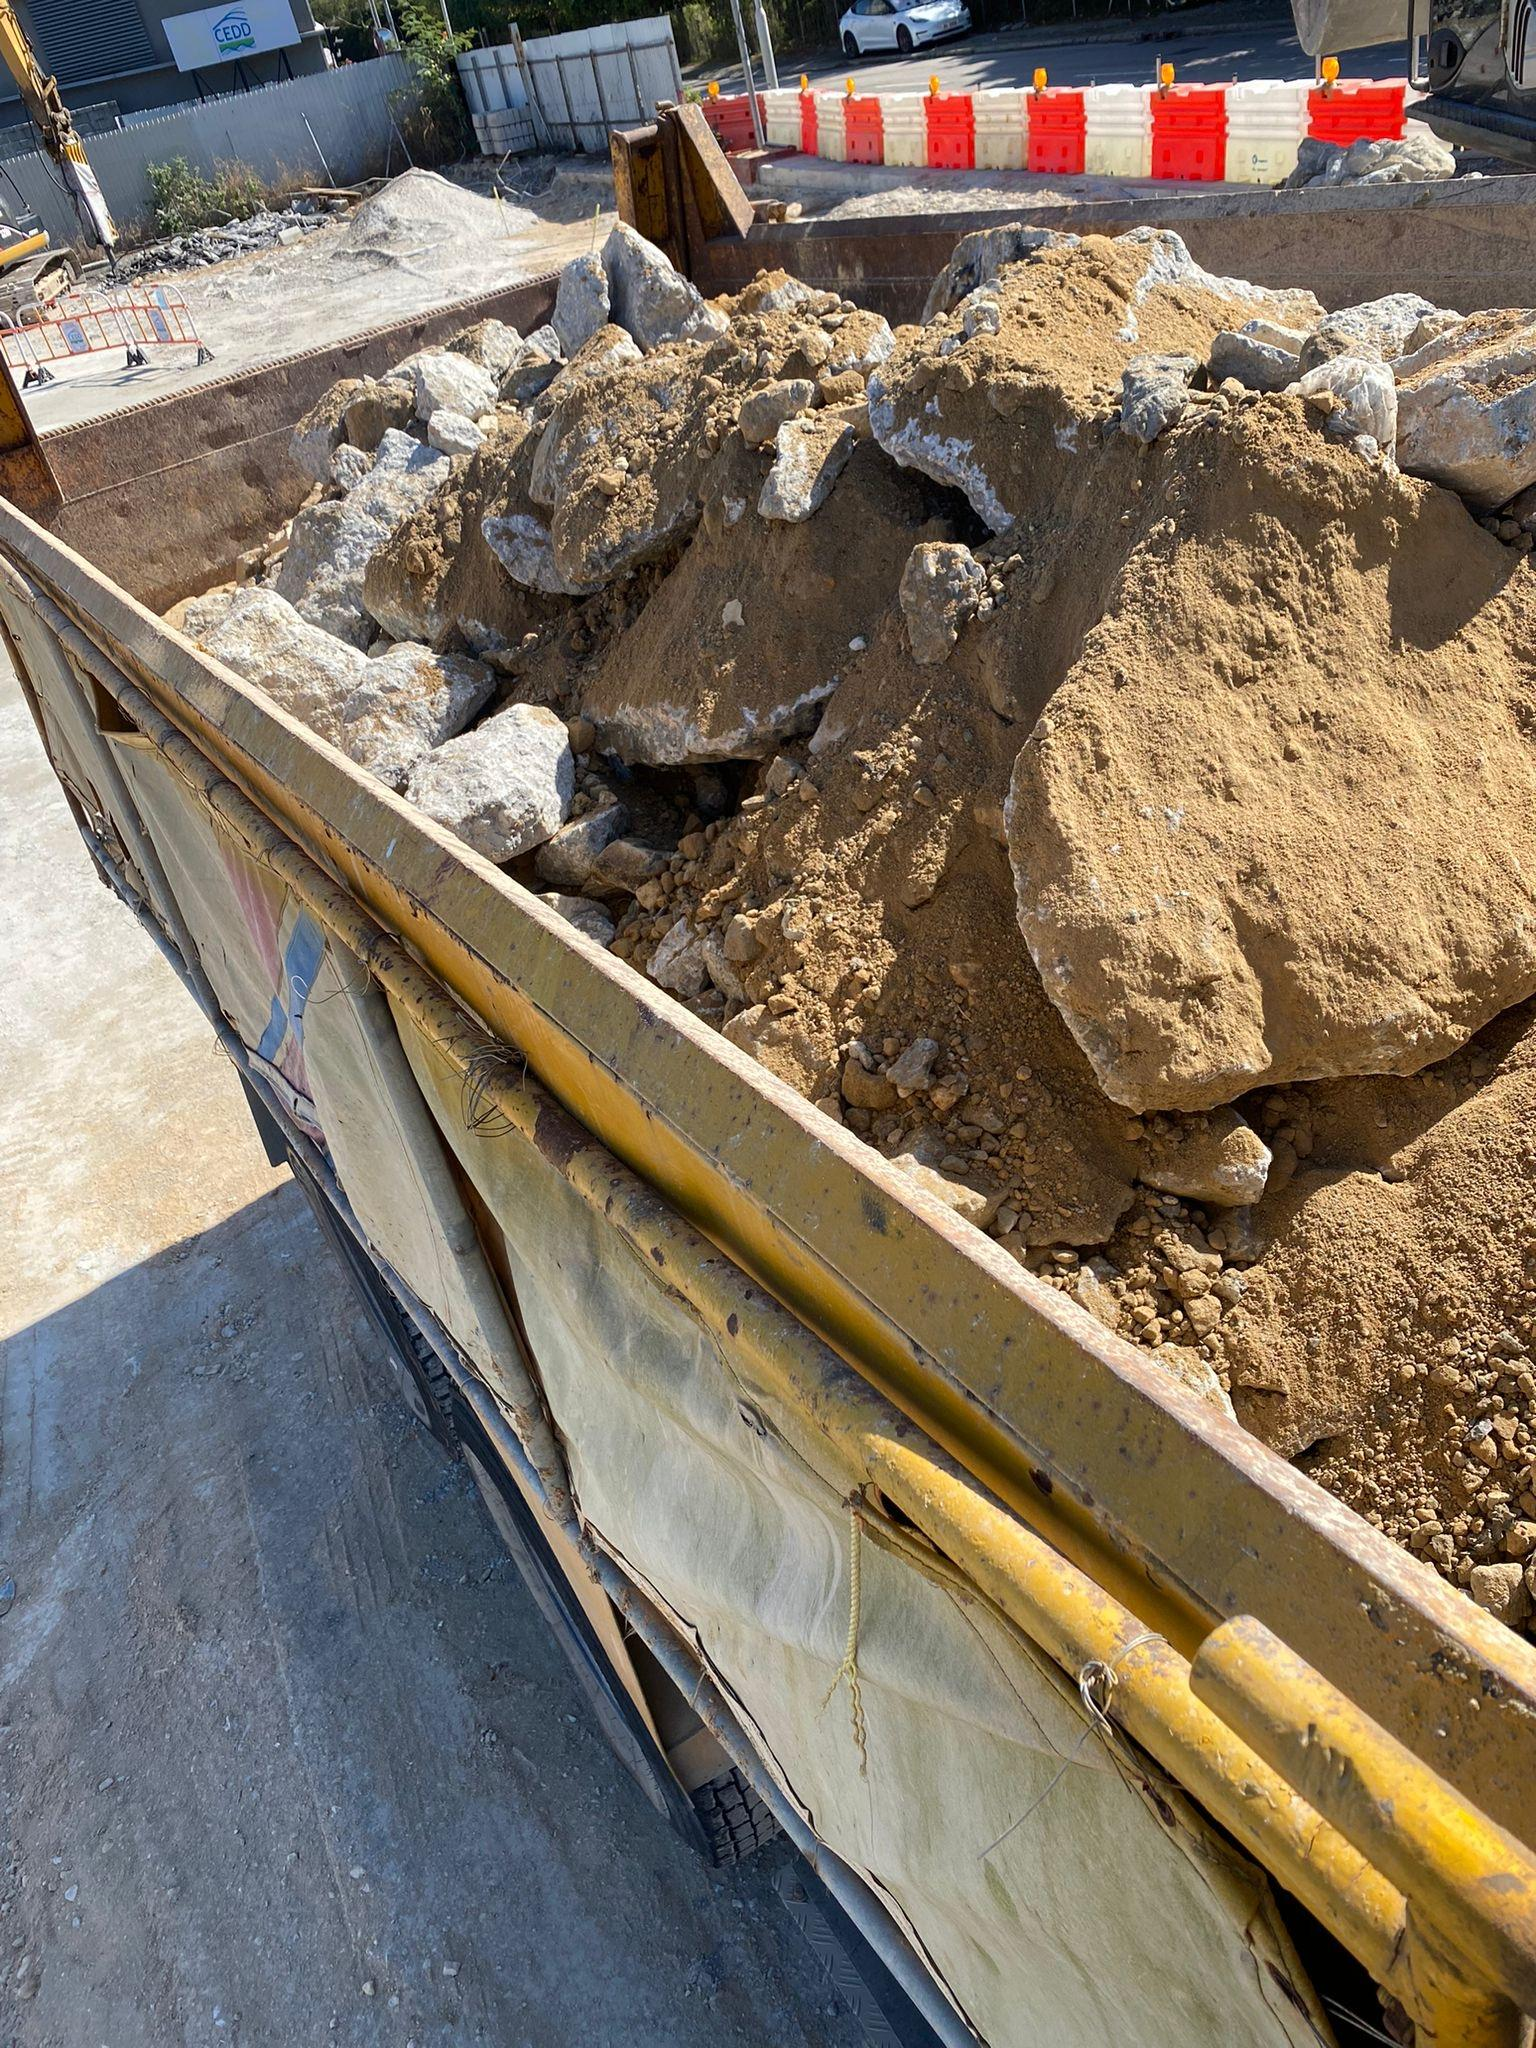stone: (160, 210, 1534, 1653), (1000, 390, 1534, 1116), (571, 410, 976, 769)
